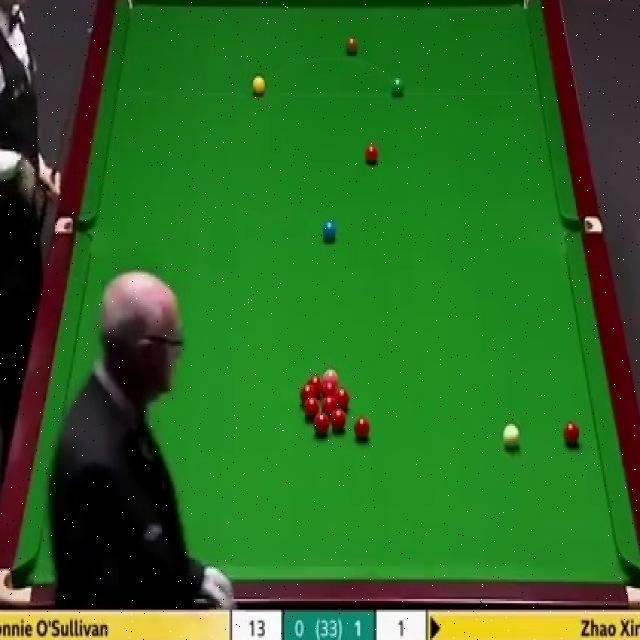blue-ball: (322, 218, 337, 244)
brown-ball: (344, 36, 359, 57)
green-ball: (390, 74, 404, 97)
pink-ball: (324, 368, 338, 387)
red-ball: (562, 420, 580, 447), (364, 141, 379, 167), (330, 408, 346, 432), (314, 413, 329, 438), (354, 416, 369, 440), (322, 394, 338, 416), (301, 382, 315, 404), (305, 397, 318, 419), (337, 388, 351, 408), (309, 375, 321, 397), (322, 384, 336, 395)
white-ball: (501, 423, 520, 454)
yellow-ball: (251, 75, 265, 96)
